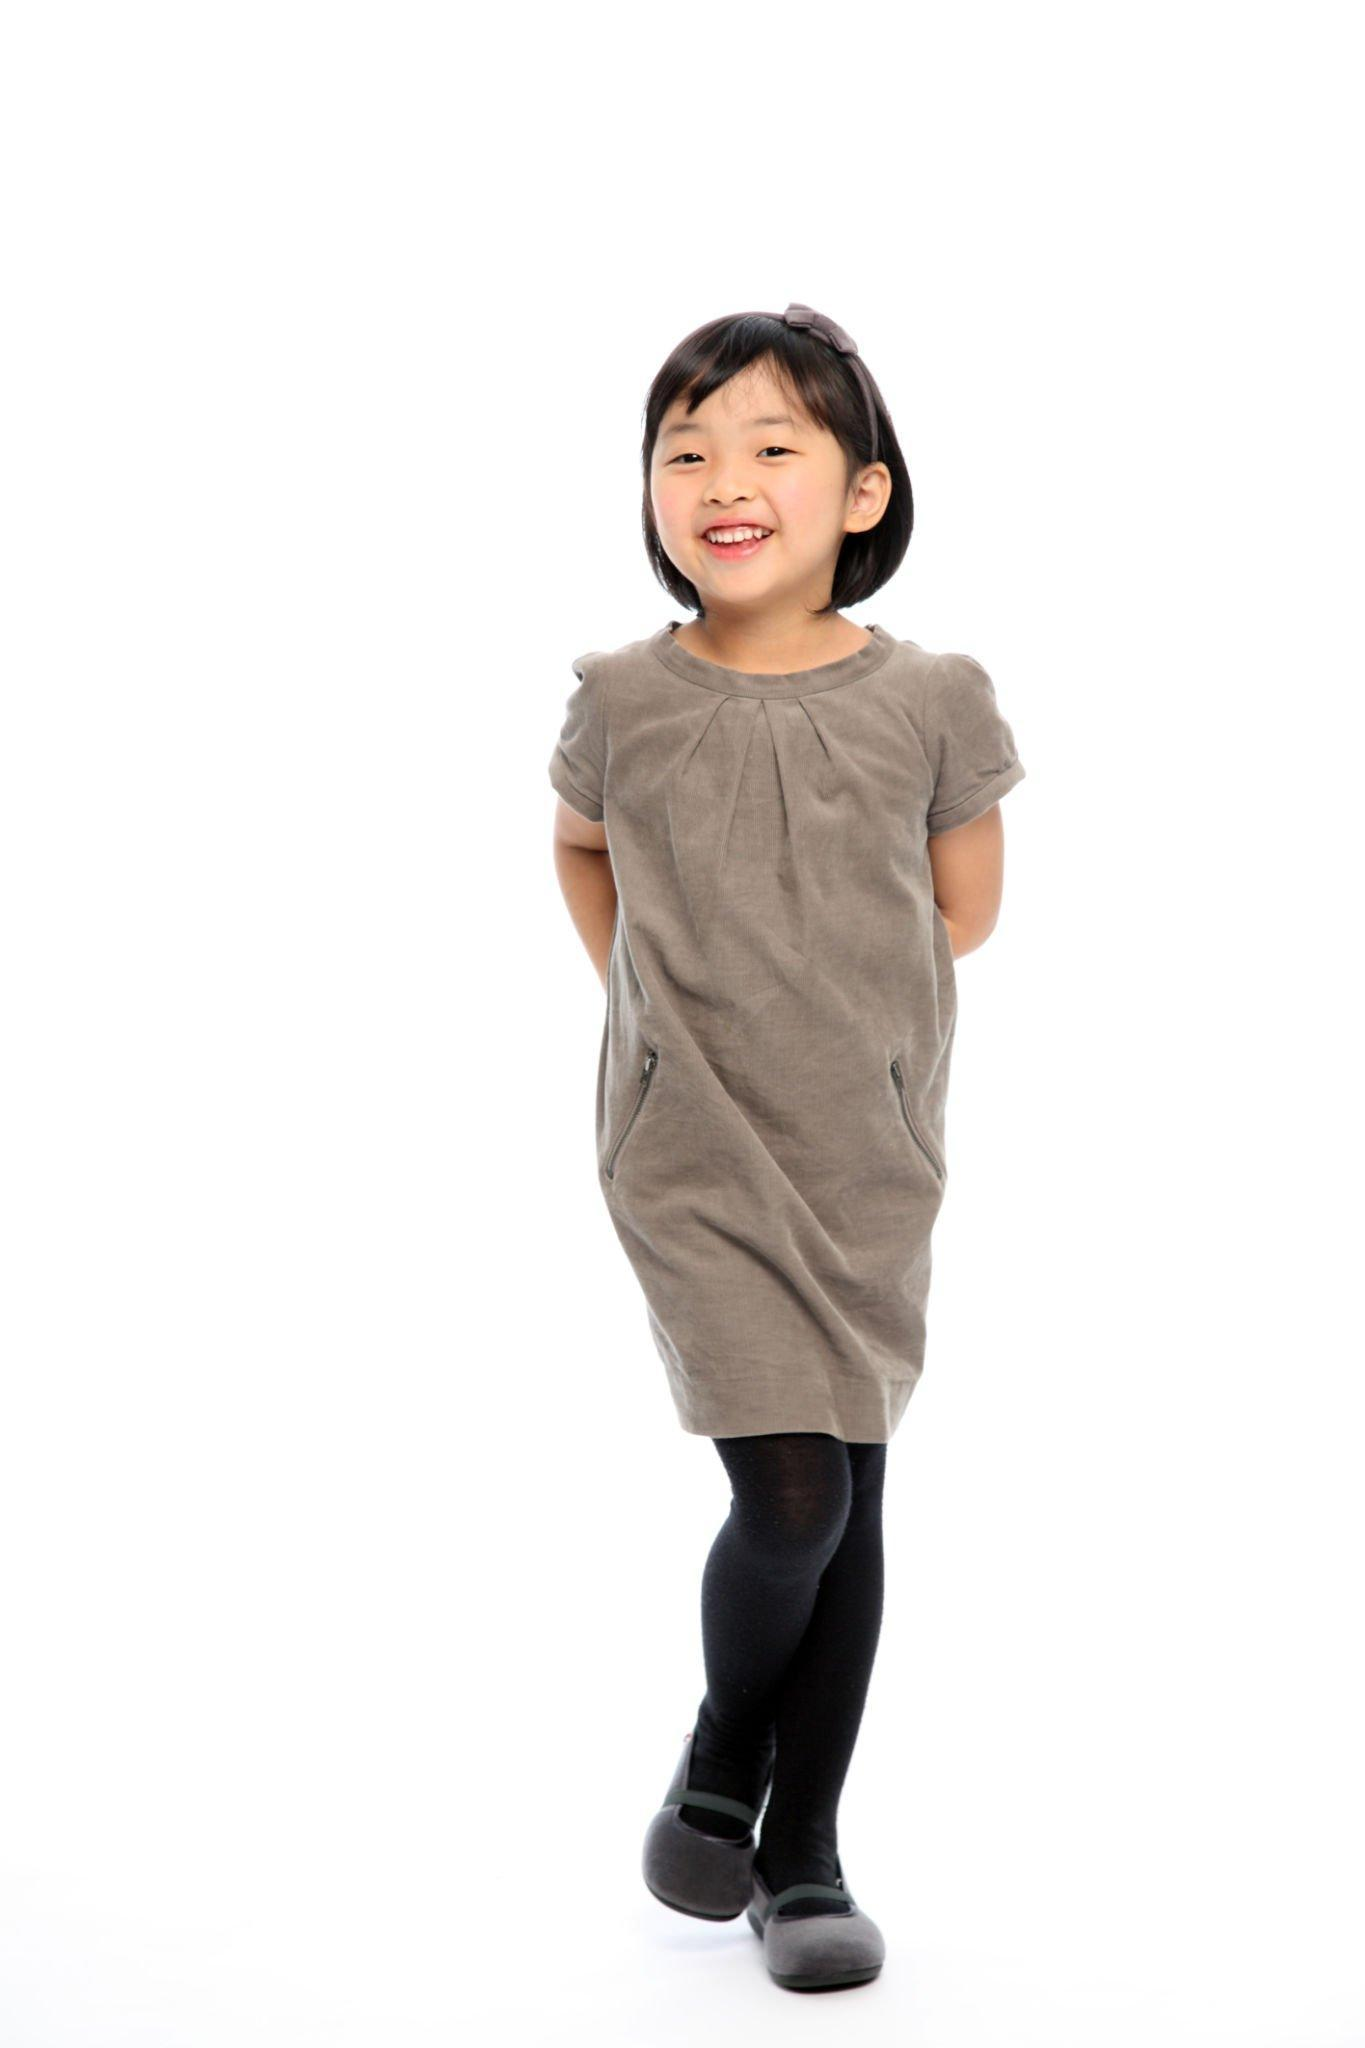Healthy: (587, 301, 902, 640)
